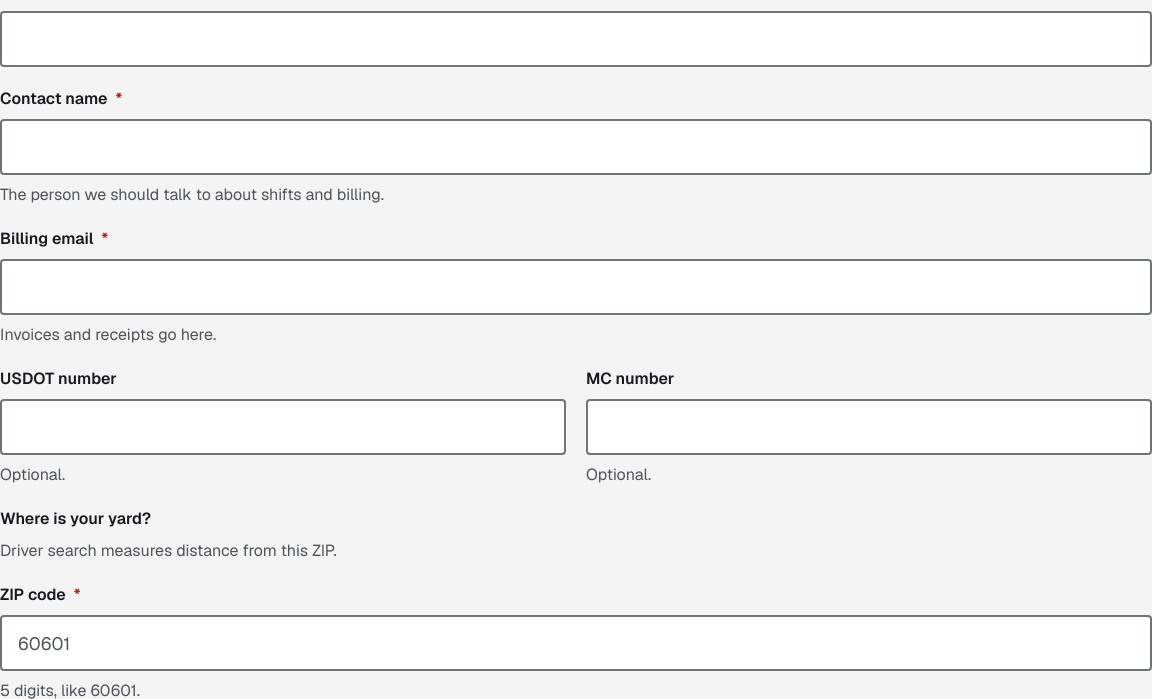
CarrierDetailsForm › warns when the yard is outside the launch area, and rejects a ZIP that is not on file
In the field labelled "ZIP code *": (576, 643) x1=0 y1=615 x2=1151 y2=671, type "75201"
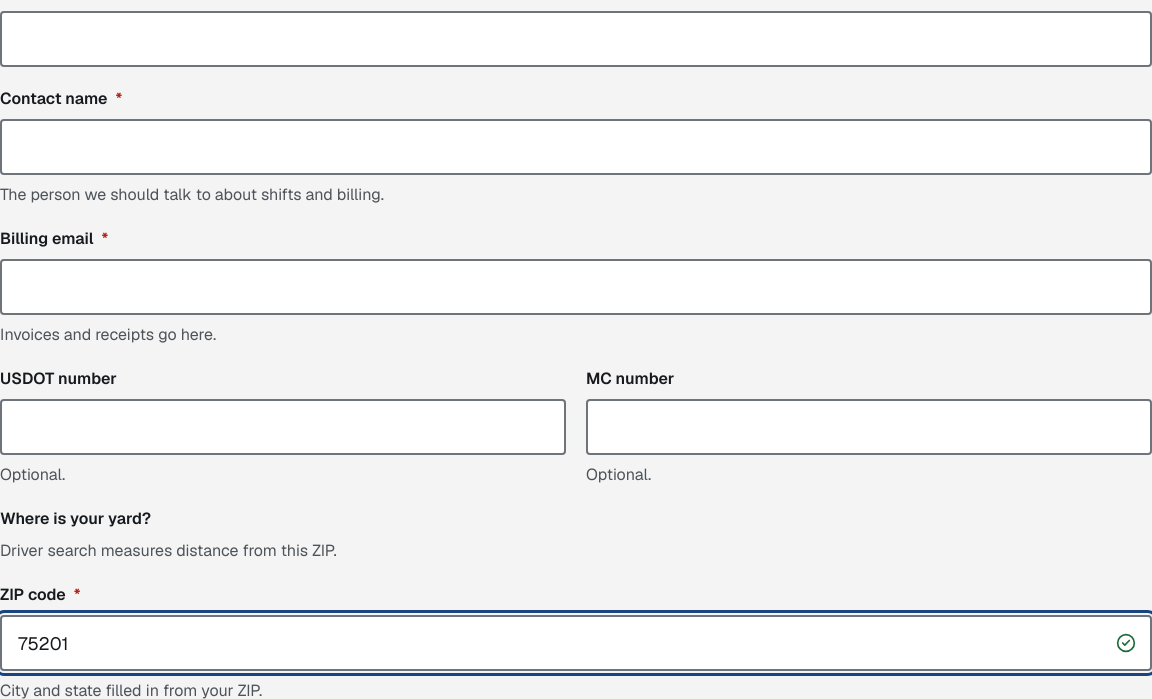
Replace the text in the field labelled "ZIP code *" with "99999": (576, 643) x1=0 y1=615 x2=1151 y2=671
(page scrolled)
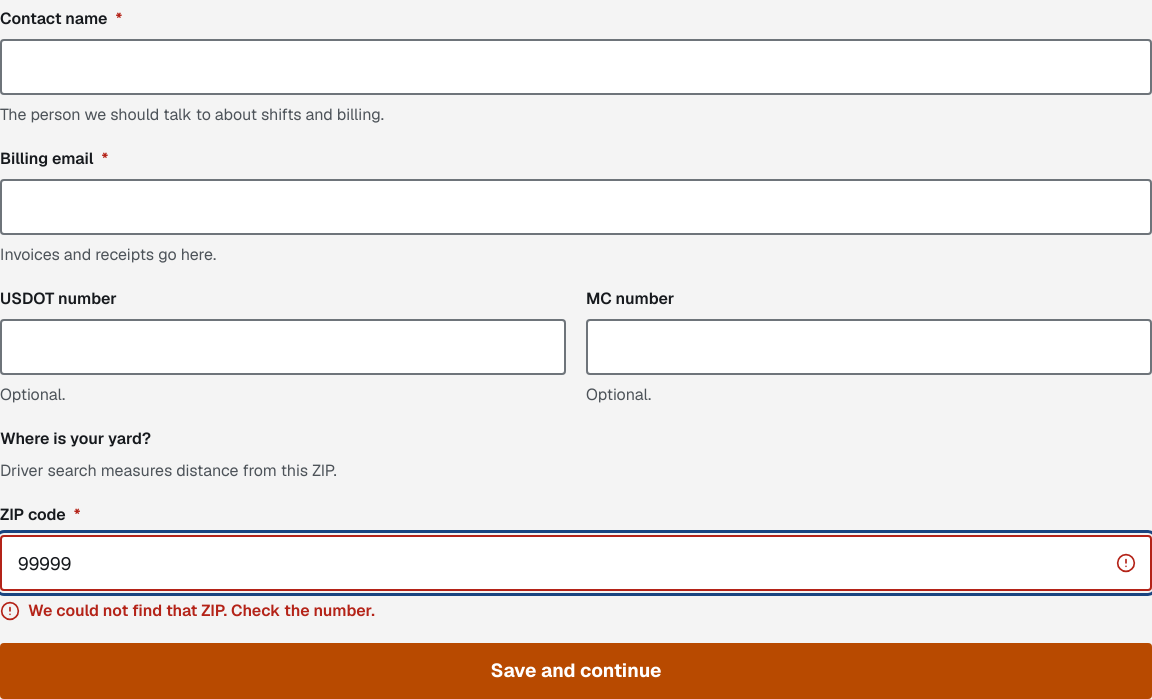
Expected: the text "We could not find that ZIP. Check the number." is shown, x1=28 y1=599 x2=375 y2=623
